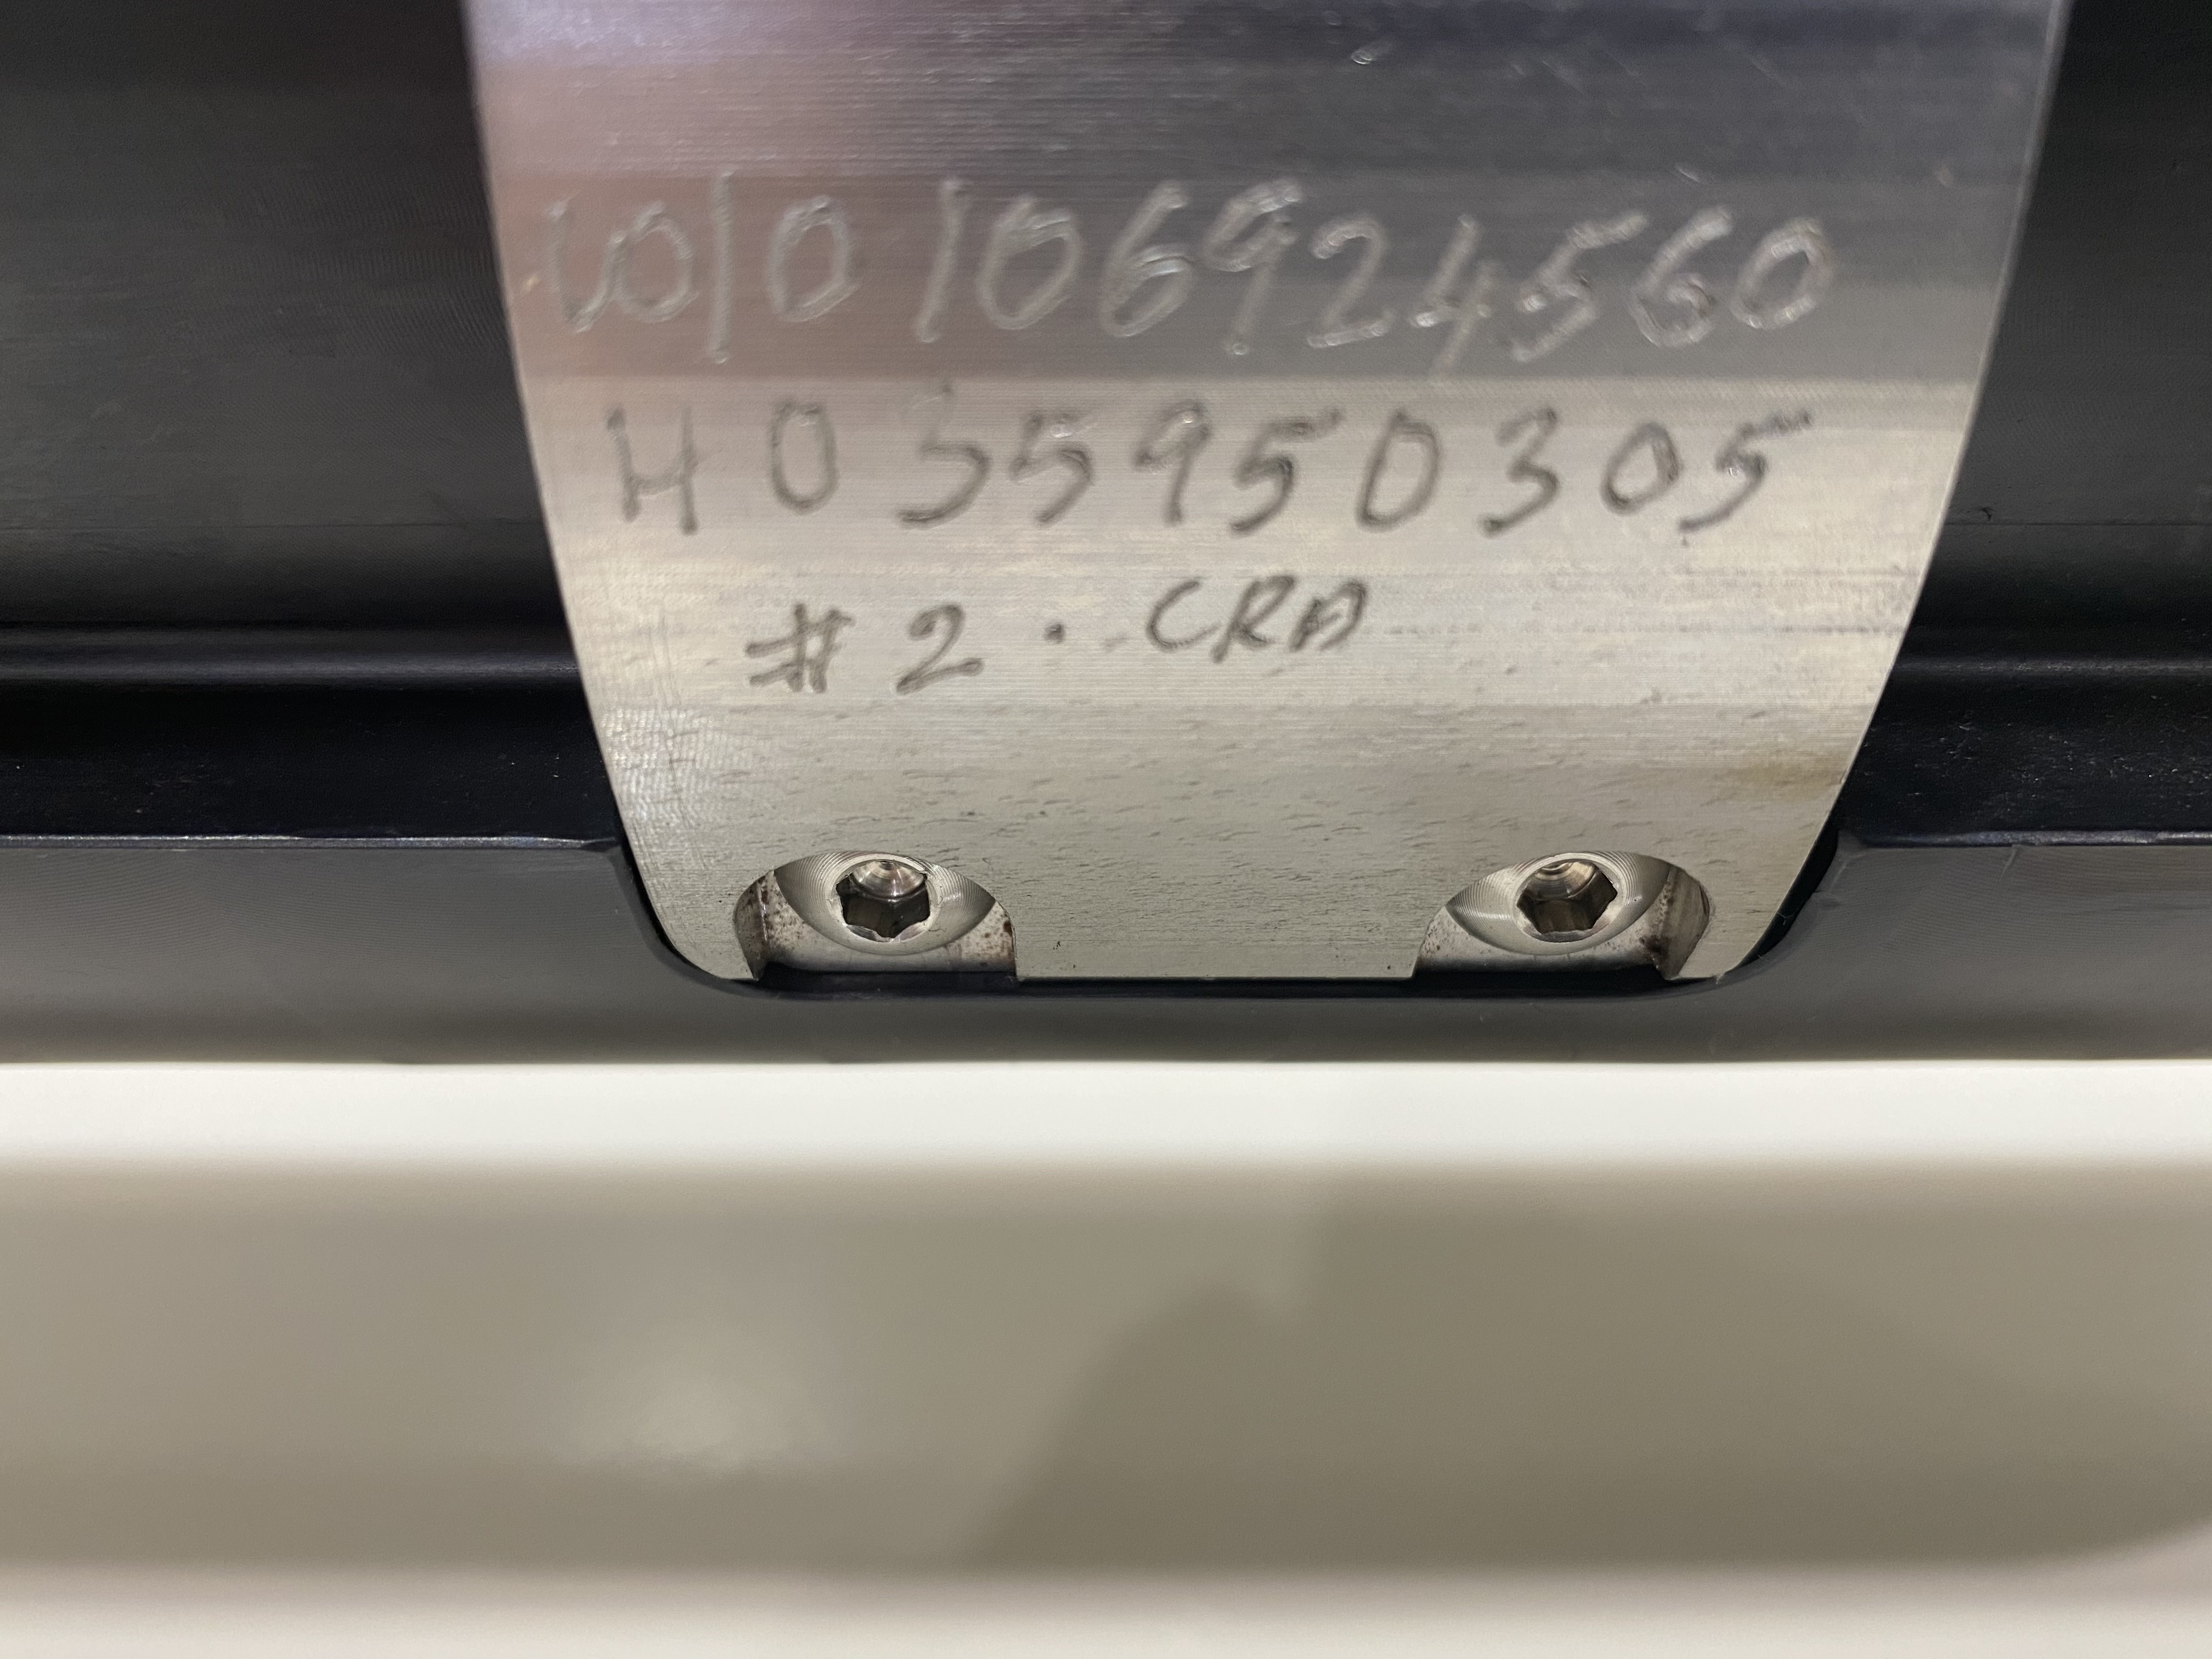character: (747, 153, 871, 375), (1501, 214, 1649, 389), (890, 139, 996, 378), (1669, 390, 1815, 563), (1207, 380, 1355, 545), (1190, 153, 1301, 371), (1613, 190, 1730, 383), (1446, 382, 1573, 558), (1087, 178, 1204, 369), (1296, 195, 1414, 375), (996, 371, 1120, 538), (1393, 209, 1500, 401), (979, 178, 1087, 364), (1723, 207, 1853, 361), (871, 380, 995, 537), (1573, 390, 1686, 561), (589, 385, 711, 540), (1350, 378, 1446, 558), (611, 155, 700, 347), (723, 599, 867, 714), (1120, 383, 1223, 542), (766, 378, 857, 549), (521, 179, 599, 350), (693, 141, 747, 378), (894, 591, 1005, 701), (1212, 573, 1299, 701), (1141, 556, 1216, 671)
